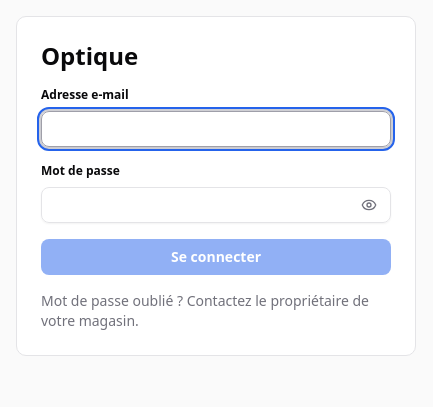
Scenario: /connexion › une limite de debit affiche sa phrase et un compte a rebours dans la ligne d'aide
In the field labelled "Adresse e-mail": (216, 129) [41,111,391,147], type "karim.benali@optiqueanfa.ma"
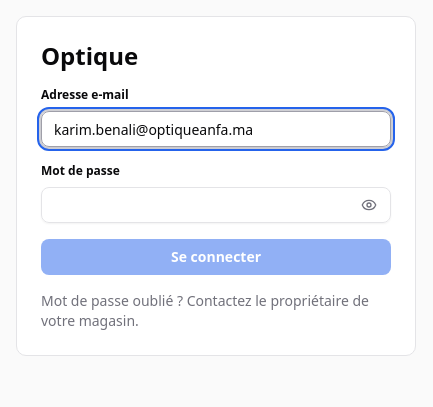
In the password field labelled "Mot de passe": (216, 205) [41,187,391,223], type "x"
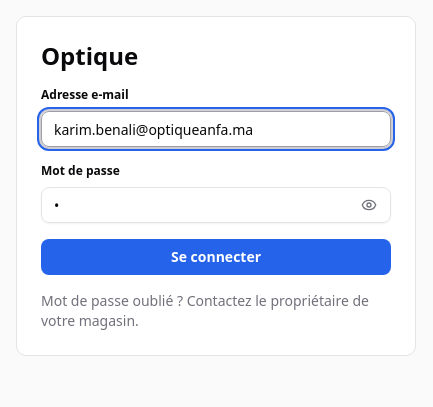
Click the button "Se connecter": (216, 257) [41,239,391,275]
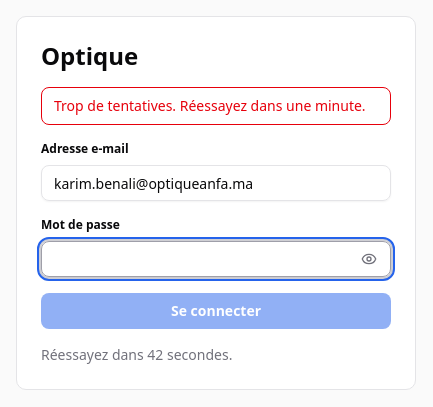
Result: the message reads "Trop de tentatives. Réessayez dans une minute." at [54,96,366,115]
Result: the text with test id "ligne-daide" shows "42" at [41,345,232,364]
Result: the button "Se connecter" is disabled at [41,293,391,329]
